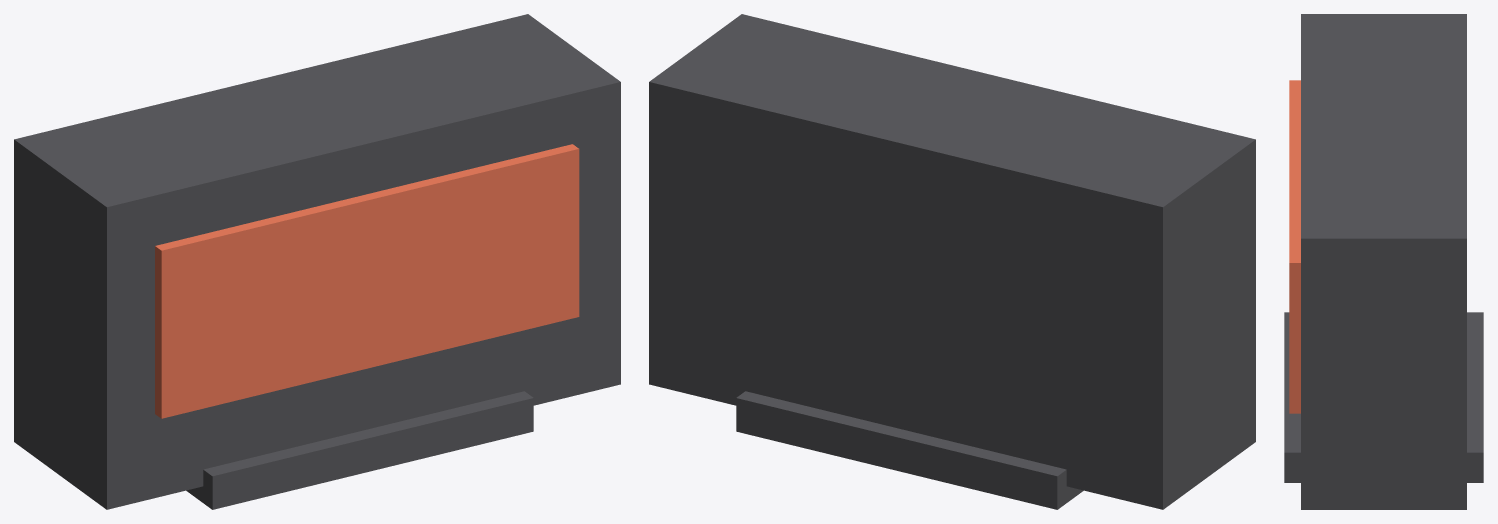
The model's file is dm_deskclock.glb.
The picture shows the model from 3 angles, left to right: view 1: azimuth 30°, elevation 25°; view 2: azimuth 150°, elevation 25°; view 3: azimuth 270°, elevation 25°; orthographic projection. The views are drawn at different scales.
Visible parts, largest first — view 1: dm_deskclock; view 2: dm_deskclock; view 3: dm_deskclock.
Boxes of the visible parts, left/top/right/bottom form: dm_deskclock: left=14, top=14, right=620, bottom=509; dm_deskclock: left=649, top=14, right=1255, bottom=509; dm_deskclock: left=1284, top=14, right=1483, bottom=509.
Size of the model in its own units: 0.32 by 0.19 by 0.12.
